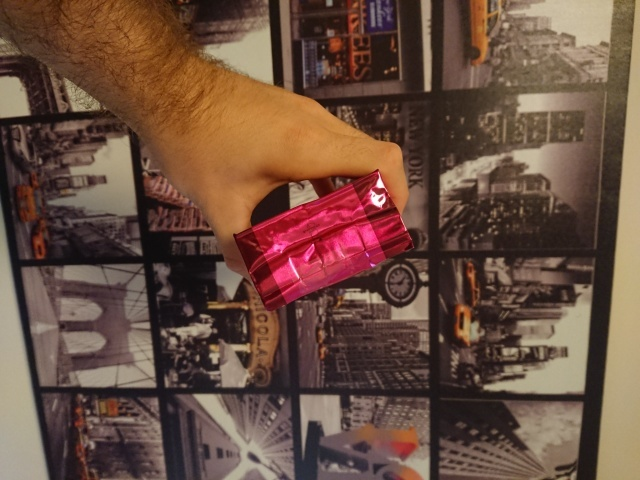Barcaffe Classic Original 225g: (231, 167, 417, 314)
